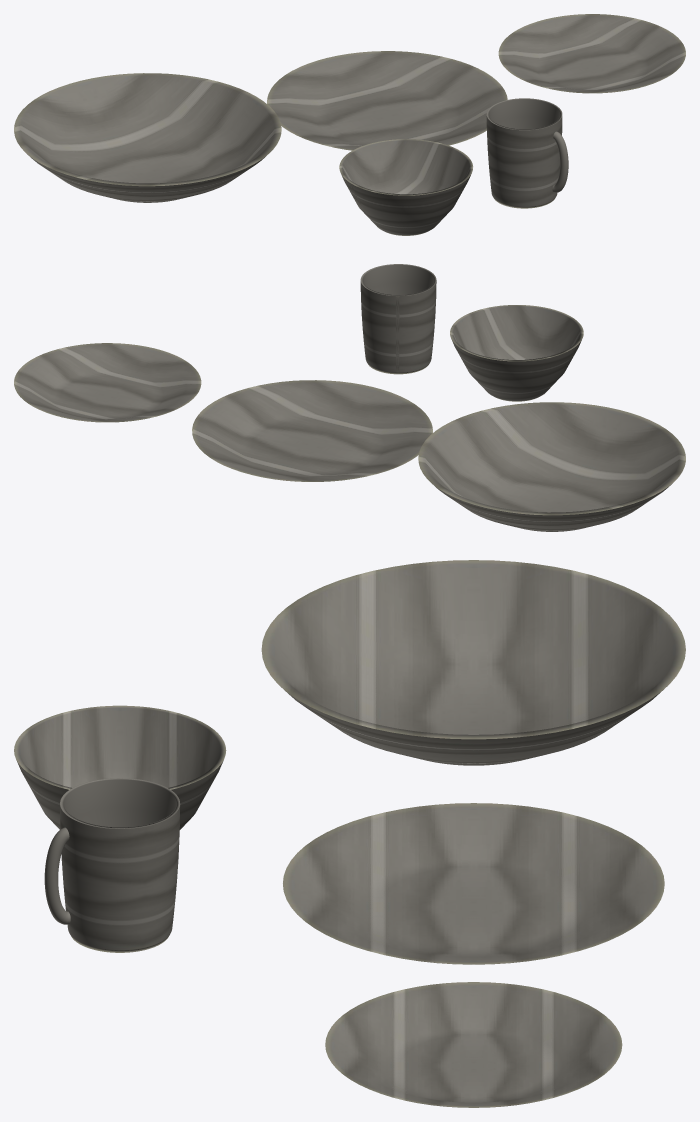
The model's file is BLC-05.glb.
3 renders of one model, top to bottom at view 1: azimuth 30°, elevation 25°; view 2: azimuth 150°, elevation 25°; view 3: azimuth 270°, elevation 25°, orthographic. The views are drawn at different scales.
Size of the model in its own units: 0.83 by 0.1 by 0.475.
Materials: 11 (9 with a texture image).
